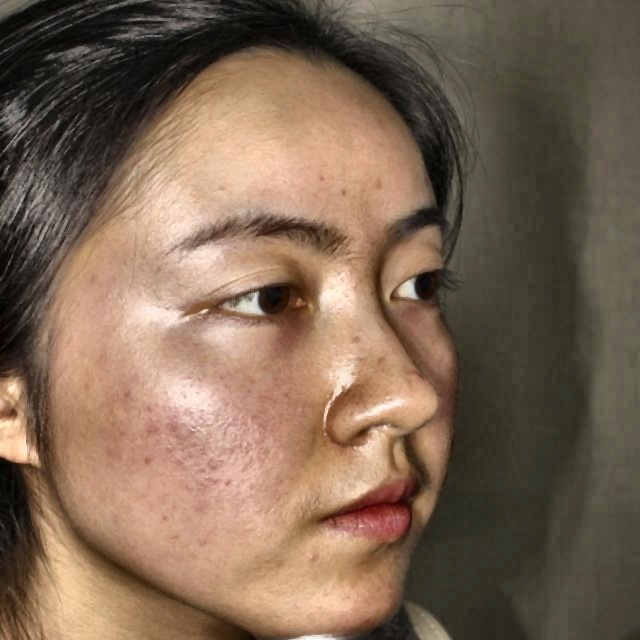comedone: (399, 364, 424, 384)
